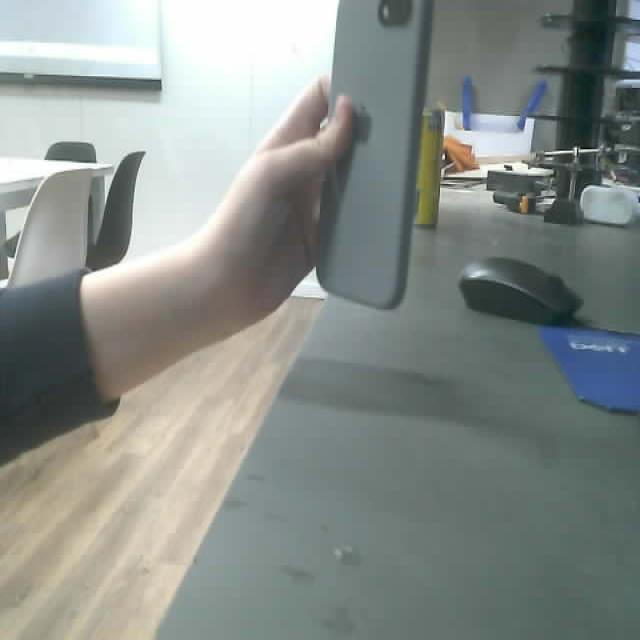phone: (310, 1, 435, 311)
